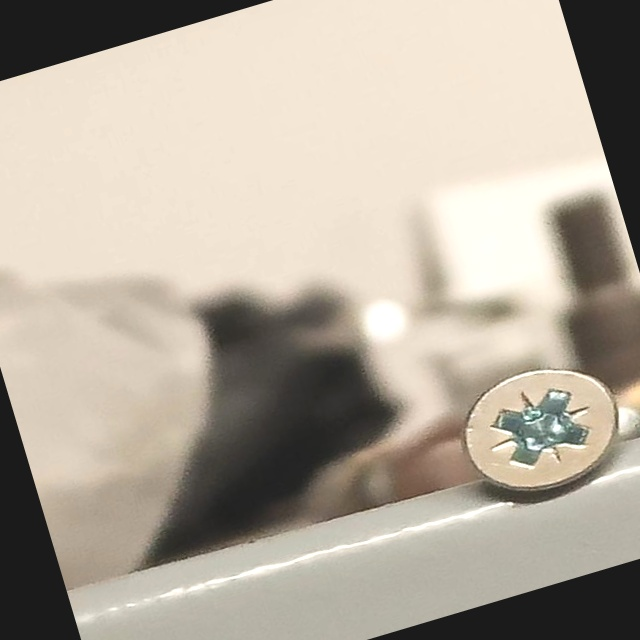pozidriv: (448, 349, 633, 511)
